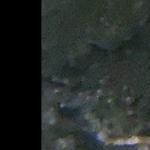alive: (44, 1, 148, 147)
